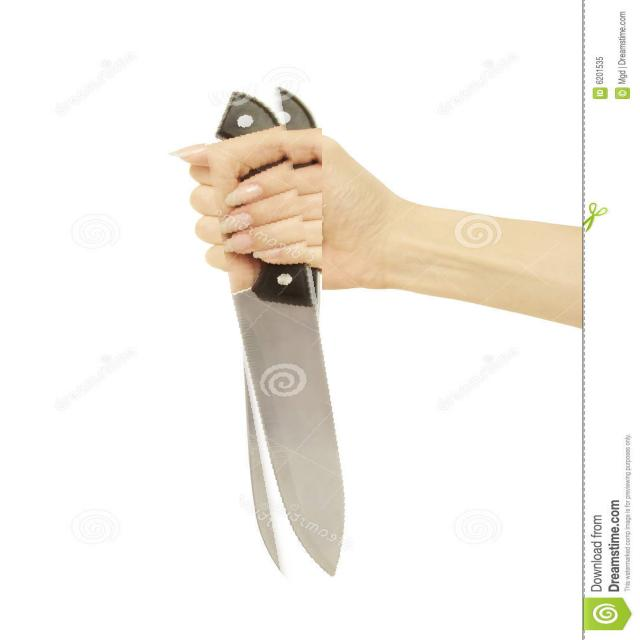knife: (218, 81, 343, 590)
